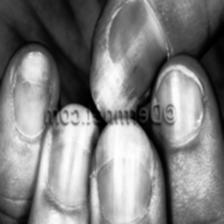Toxin: (78, 52, 132, 108), (89, 127, 150, 161)
